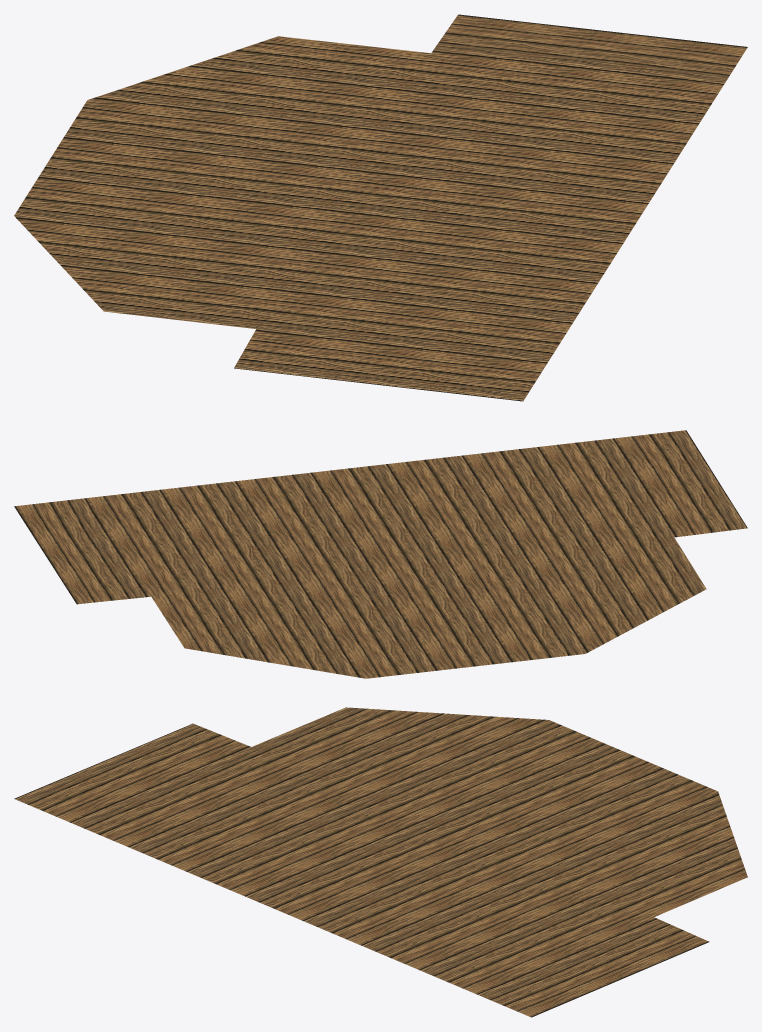
The model's file is LAKETOWN_EXTERIOR_PS_LT_PIER_WOOD14.fbx.
3 renders of one model, top to bottom at view 1: azimuth 30°, elevation 25°; view 2: azimuth 150°, elevation 25°; view 3: azimuth 270°, elevation 25°, orthographic. The views are drawn at different scales.
Visible parts, largest first — view 1: LAKETOWN_EXTERIOR_PS_LT_PIER_WOOD14; view 2: LAKETOWN_EXTERIOR_PS_LT_PIER_WOOD14; view 3: LAKETOWN_EXTERIOR_PS_LT_PIER_WOOD14.
Boxes of the visible parts, left/top/right/bottom form: LAKETOWN_EXTERIOR_PS_LT_PIER_WOOD14: left=14, top=14, right=747, bottom=401; LAKETOWN_EXTERIOR_PS_LT_PIER_WOOD14: left=14, top=430, right=747, bottom=678; LAKETOWN_EXTERIOR_PS_LT_PIER_WOOD14: left=14, top=707, right=747, bottom=1017.
Bounding box in the file's own units: 205383 × 0.1336 × 205383.
Materials: 1 (1 with a texture image).
